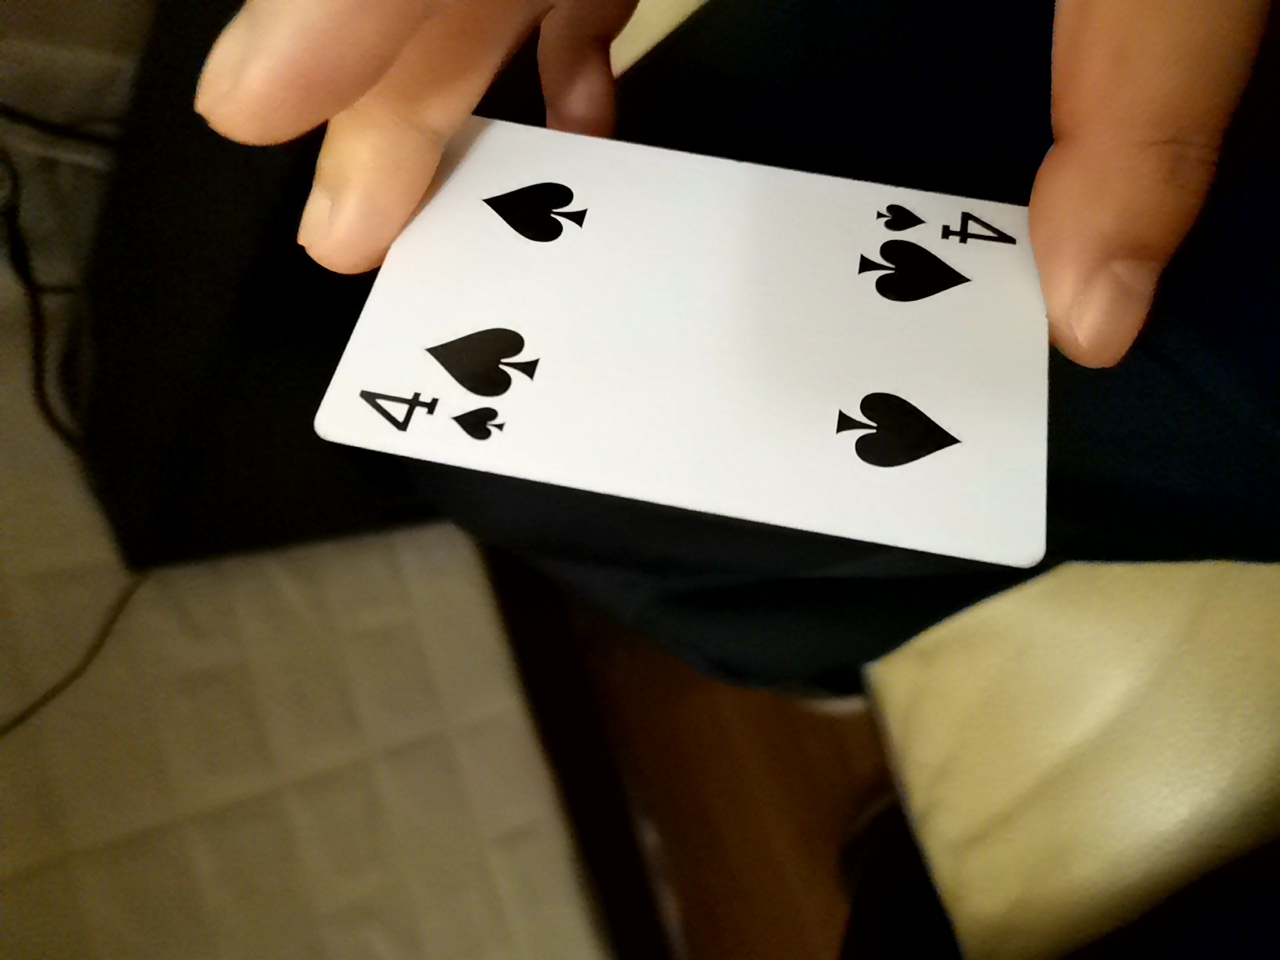ht 4: (328, 106, 1081, 580)
